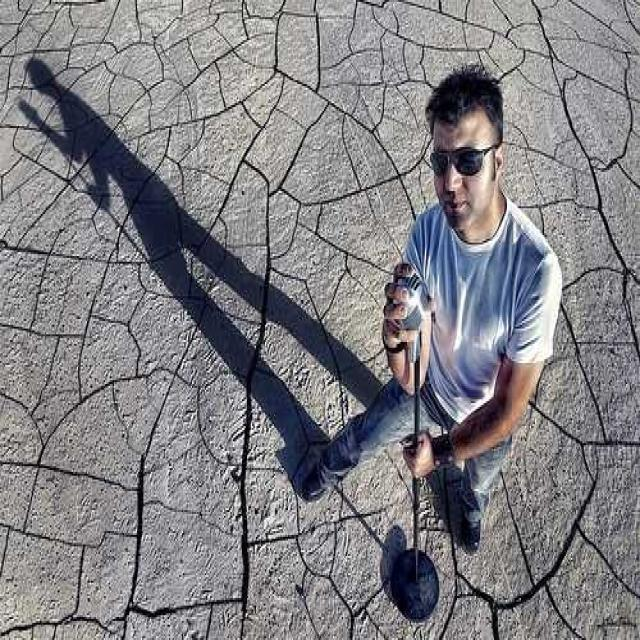microphone: (390, 258, 438, 391)
